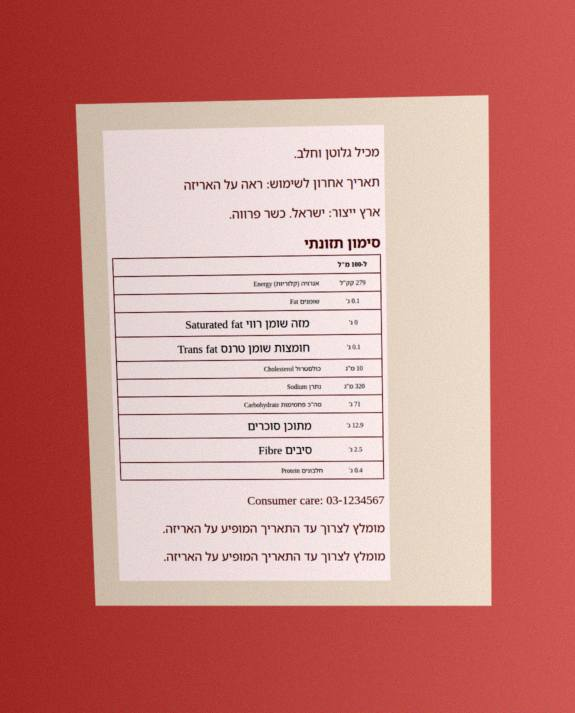carbs: (348, 398, 362, 409)
energy: (338, 277, 367, 288)
fat: (345, 295, 361, 306)
protein: (348, 464, 364, 476)
